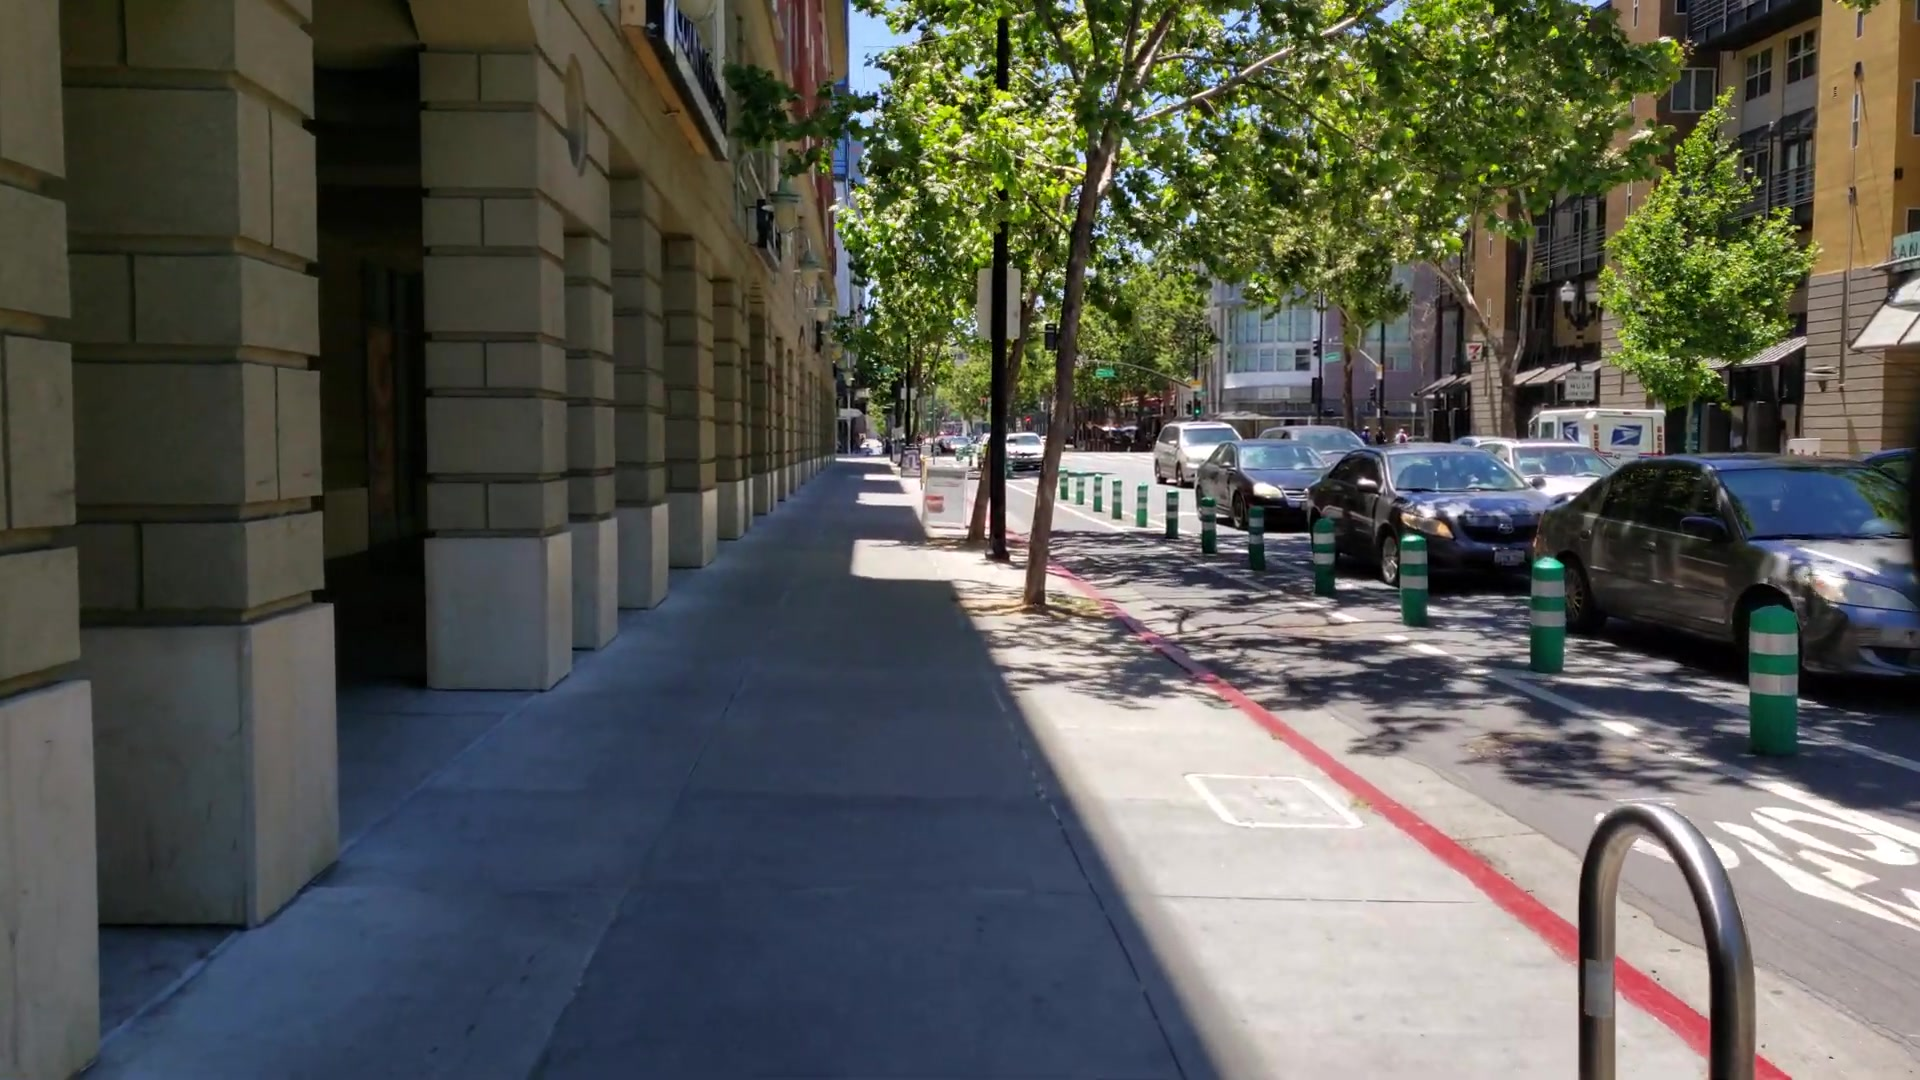vehicle: (1534, 452, 1917, 688), (1308, 452, 1534, 575), (1193, 439, 1308, 521), (1149, 415, 1237, 480)
